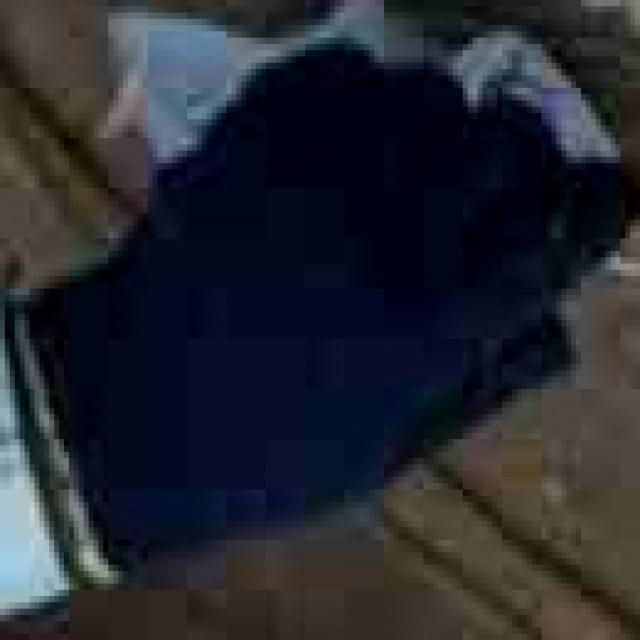vai_vun: (10, 50, 640, 590)
